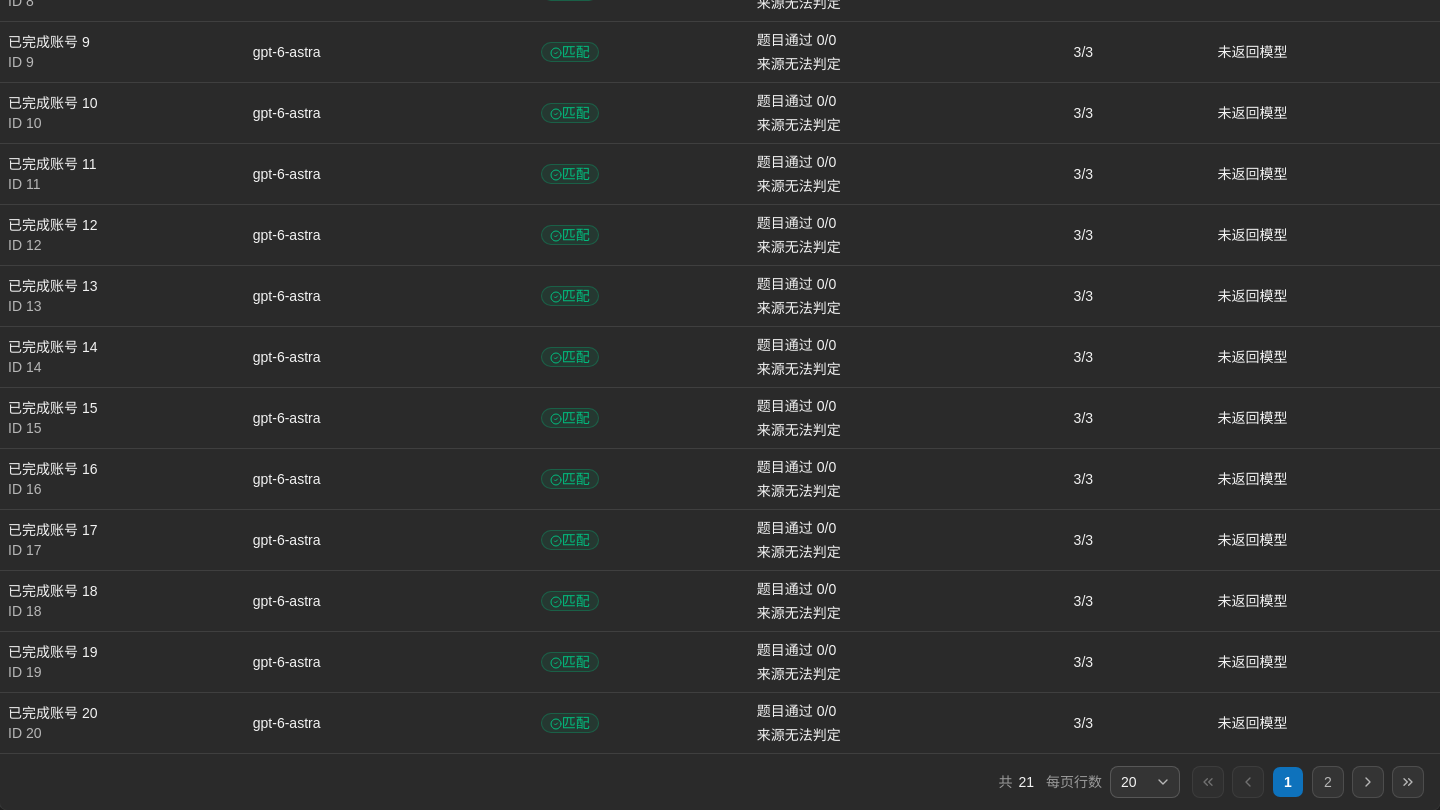
Scenario: 普通模型检测中断结果 › 取消任务的多项已完成结果可通过分页继续查看
(page scrolled)
Check: the text "已完成账号 20" is shown, box [8, 704, 98, 720]
Check: the text "已完成账号 21" is not shown
Click the button named "转到第 2 页": (1328,782) [1312, 766, 1344, 798]
(page scrolled)
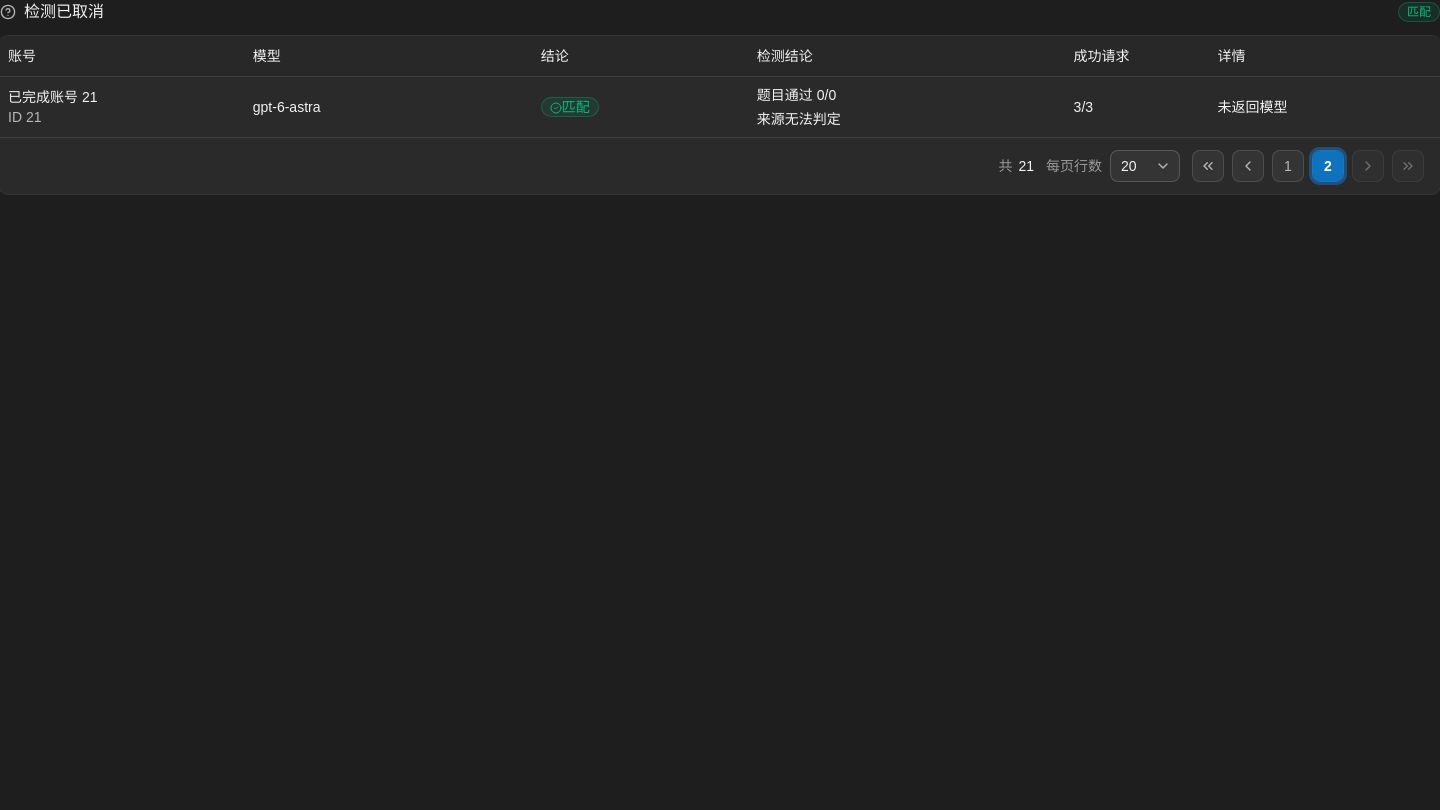
Check: the text "检测已取消" is shown, box [0, 0, 104, 24]
Check: the text "已完成账号 21" is shown, box [8, 88, 98, 104]
